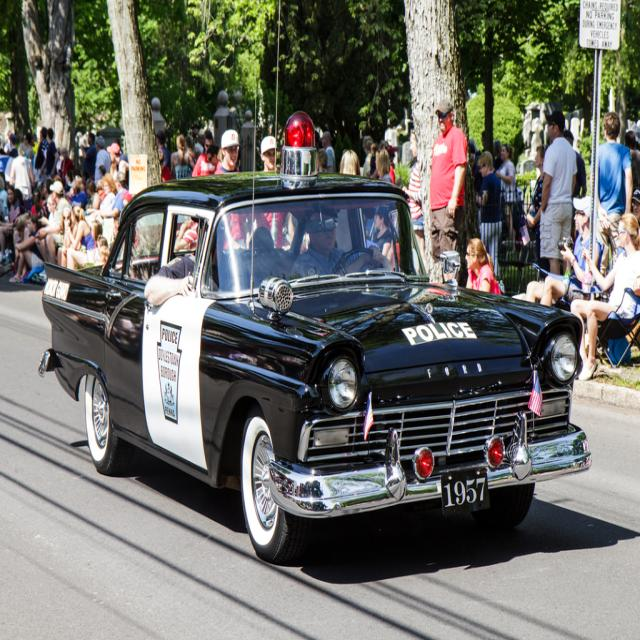Passenger Car: (38, 170, 594, 567)
